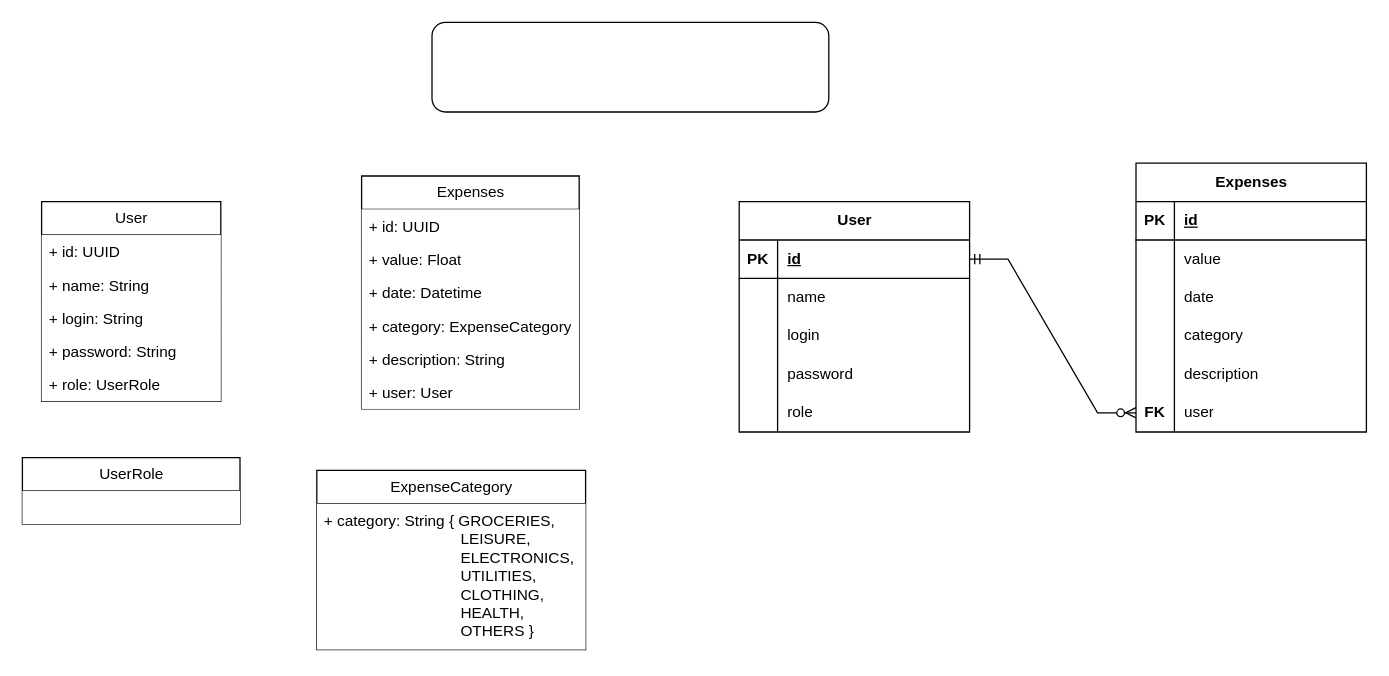
Some shapes in this 1389 by 676 pixel diagram are drawn without their labels. The shapes that lost their labels are listed below. From the top down, each one's centre as x and y in pixels, then its label:
At (x=630, y=66): "MODELING".
At (x=130, y=507): "+ role: String {ADMIN, USER}".
